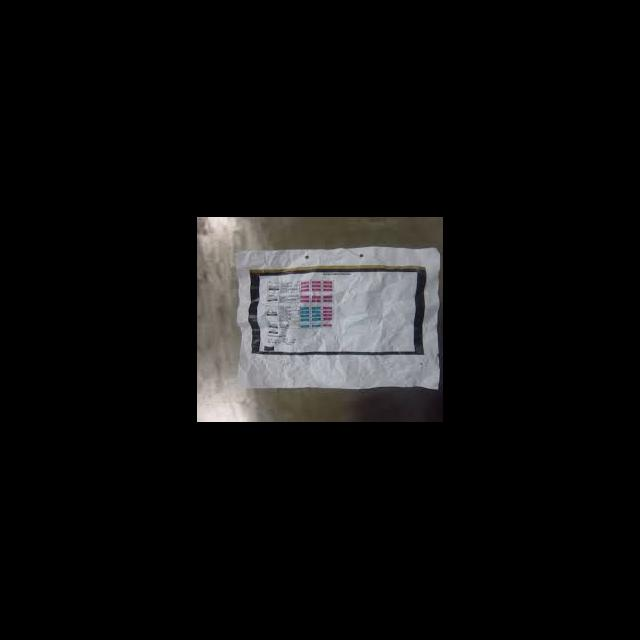paper: (233, 246, 442, 388)
